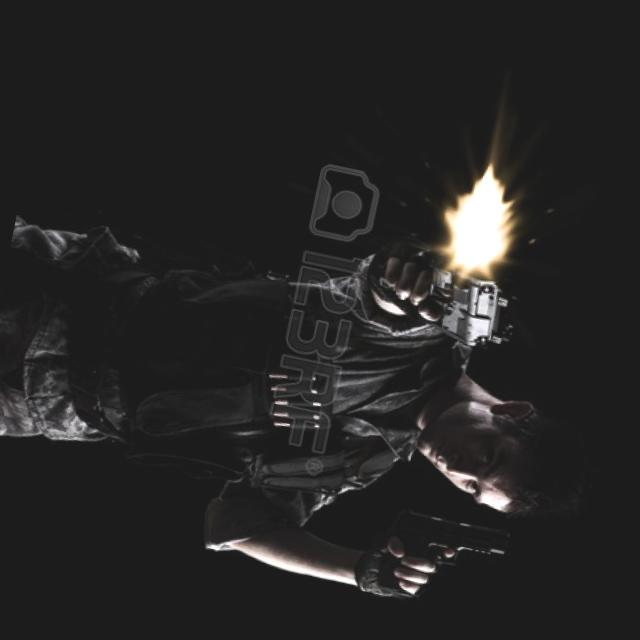handgun: (353, 481, 540, 624), (353, 215, 534, 352)
